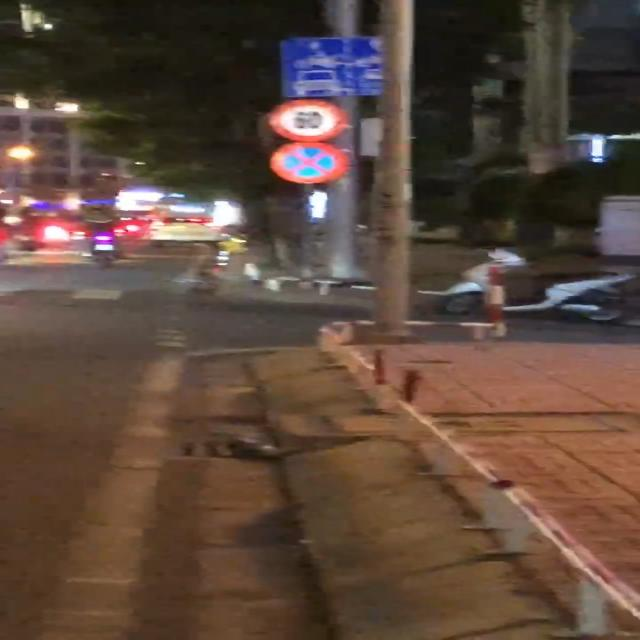Bien bao cam dung xe va do xe: (268, 142, 358, 186)
Bien bao toc do toi da cho phep: (261, 96, 351, 142)
